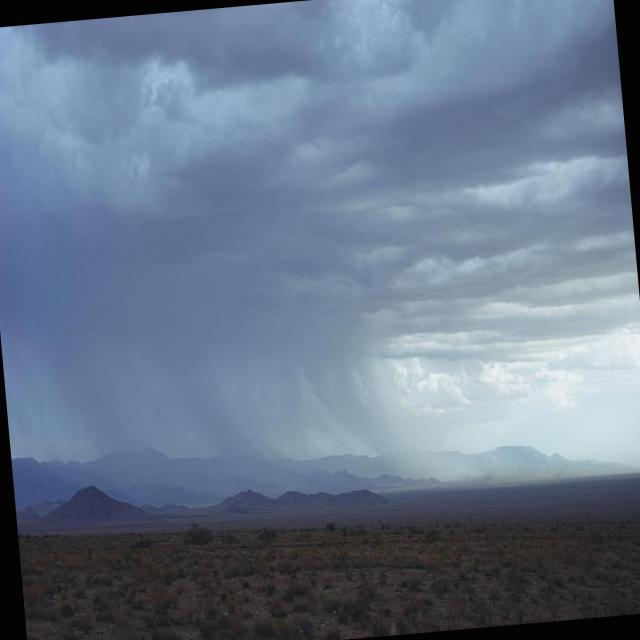nimbostratus: (0, 0, 637, 395)
